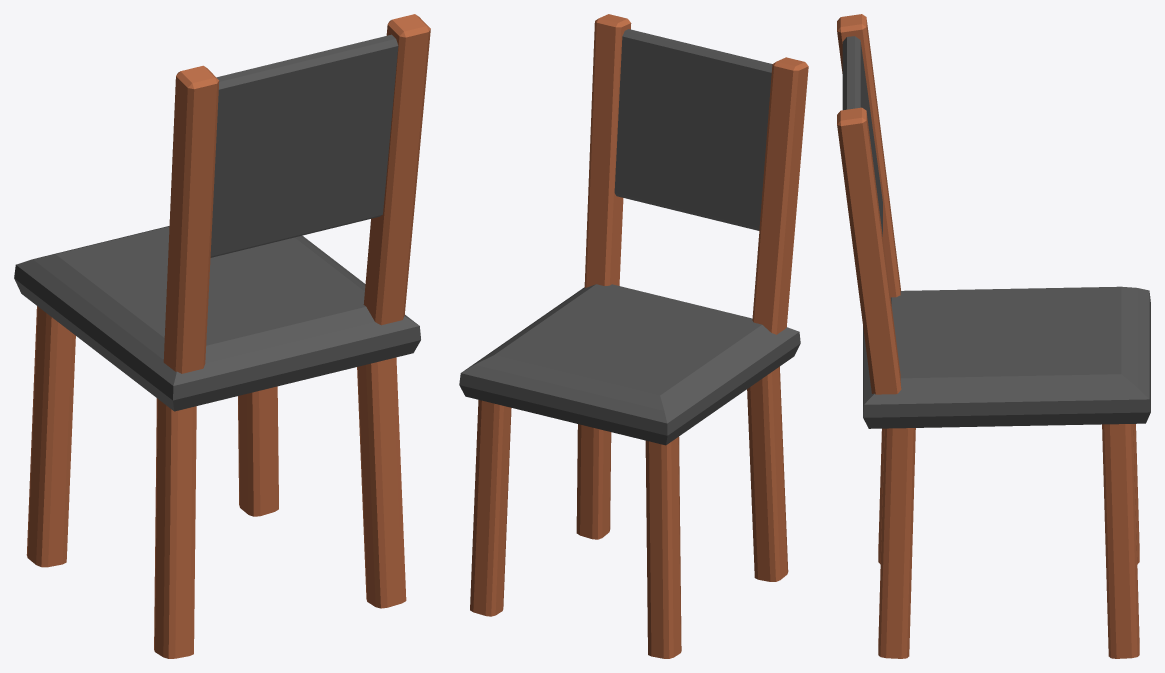
The model's file is Chair1black.fbx.
3 views of the same model, side by side, from view 1: azimuth 30°, elevation 25°; view 2: azimuth 150°, elevation 25°; view 3: azimuth 270°, elevation 25° (orthographic). The views are drawn at different scales.
Visible parts, largest first — view 1: chair 1 Black; view 2: chair 1 Black; view 3: chair 1 Black.
Boxes of the visible parts, x1=… form: chair 1 Black: x1=14, y1=14, x2=430, y2=658; chair 1 Black: x1=459, y1=14, x2=808, y2=658; chair 1 Black: x1=837, y1=14, x2=1150, y2=658.
Size of the model in its own units: 135 by 310 by 163.
Materials: 1 (1 with a texture image).
